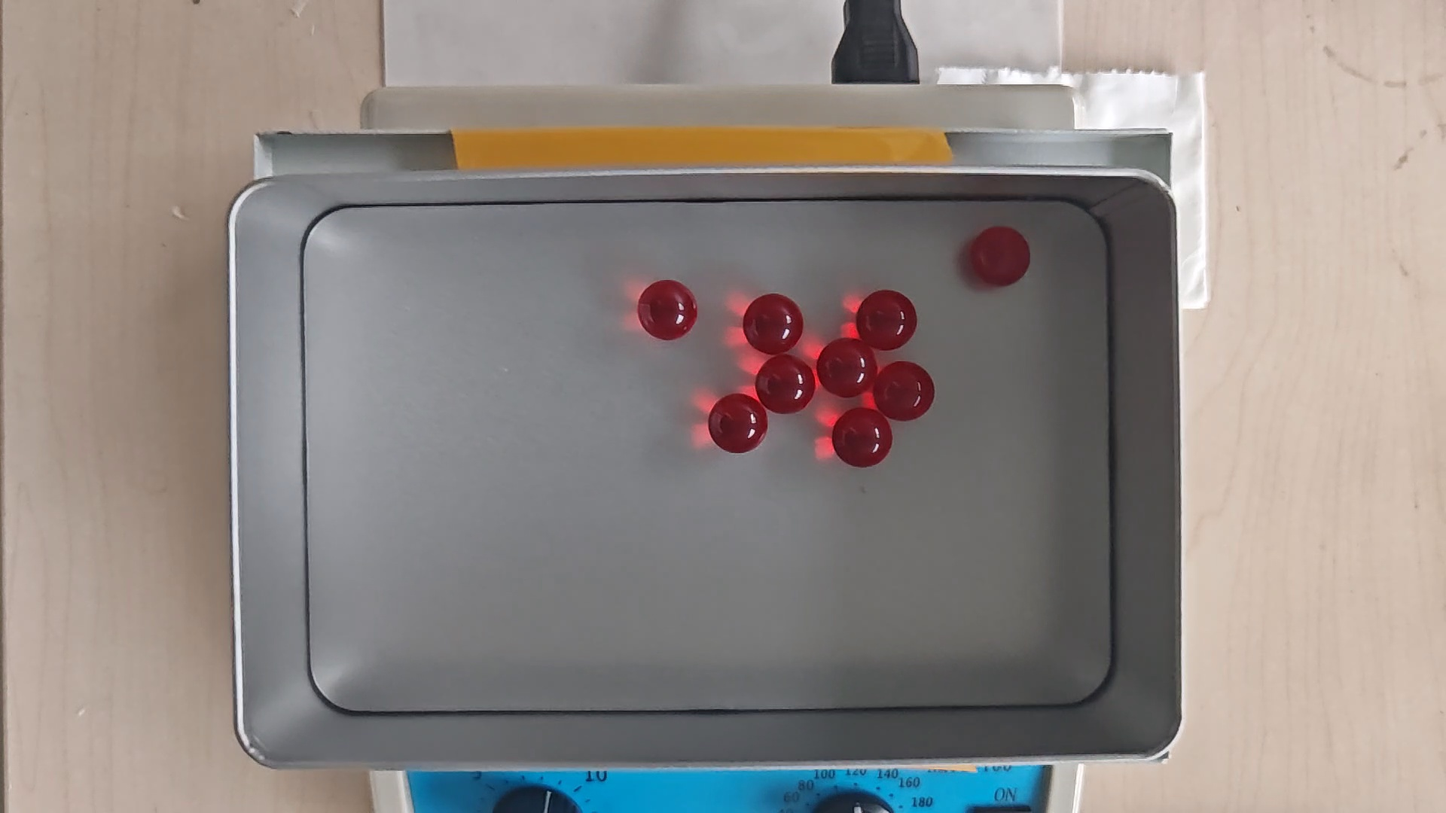ball: (854, 288, 919, 350), (743, 294, 806, 355), (754, 355, 817, 415), (708, 392, 768, 455), (969, 227, 1032, 287), (831, 406, 892, 467), (874, 362, 935, 422), (816, 338, 878, 397), (640, 279, 698, 342)
container: (302, 199, 1114, 708)
